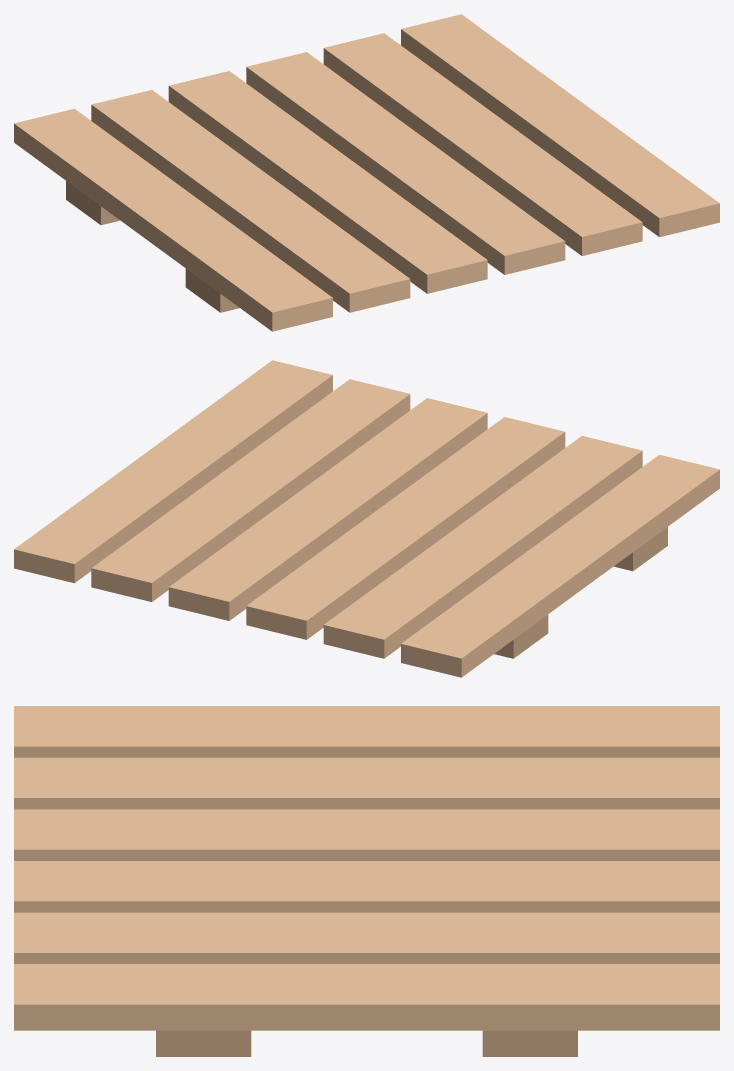
The model's file is floor.glb.
3 renders of one model, top to bottom at view 1: azimuth 30°, elevation 25°; view 2: azimuth 150°, elevation 25°; view 3: azimuth 270°, elevation 25°, orthographic. The views are drawn at different scales.
Visible parts, largest first — view 1: floor; view 2: floor; view 3: floor.
Part boxes in pixels (x1=…): floor: x1=14, y1=14, x2=719, y2=331; floor: x1=14, y1=360, x2=719, y2=677; floor: x1=14, y1=706, x2=719, y2=1056.
Bounding box in the file's own units: 1.96 × 0.16 × 1.96.
